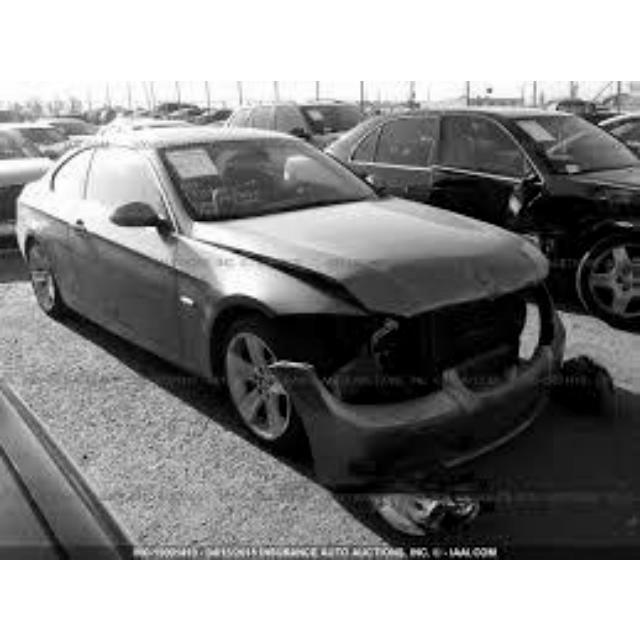bonnet-dent: (285, 211, 532, 307)
front-bumper-dent: (310, 365, 529, 468)
